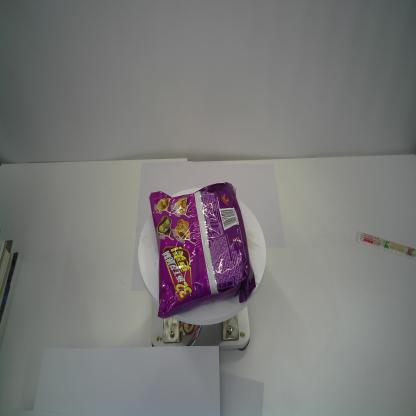Instant Noodles: (148, 182, 256, 320)
